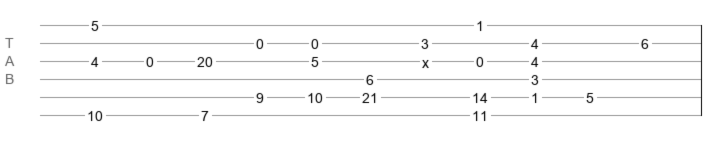0: (146, 54, 154, 64), (256, 36, 264, 46), (311, 36, 319, 46), (476, 54, 484, 64)
1: (476, 18, 484, 28), (531, 90, 539, 100)
10: (87, 108, 103, 118), (307, 90, 323, 100)
11: (472, 108, 488, 118)
14: (472, 90, 488, 100)
20: (197, 54, 213, 64)
21: (362, 90, 378, 100)
3: (421, 36, 429, 46), (531, 72, 539, 82)
4: (91, 54, 99, 64), (531, 54, 539, 64), (531, 36, 539, 46)
5: (91, 18, 99, 28), (311, 54, 319, 64), (586, 90, 594, 100)
6: (366, 72, 374, 82), (641, 36, 649, 46)
7: (201, 108, 209, 118)
9: (256, 90, 264, 100)
x: (422, 55, 429, 63)
